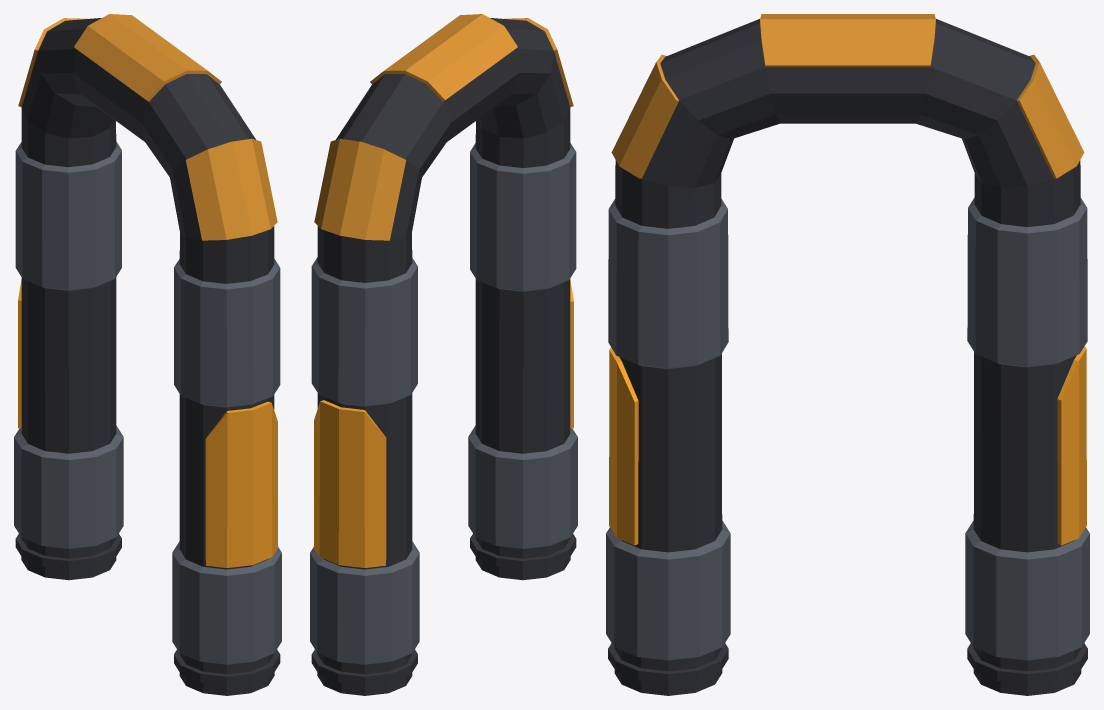
File: SM_Arc_eletric_pipe.glb
The picture shows the model from 3 angles, left to right: view 1: azimuth 30°, elevation 25°; view 2: azimuth 150°, elevation 25°; view 3: azimuth 270°, elevation 25°; orthographic projection. The views are drawn at different scales.
Visible parts, largest first — view 1: SM_Arc_eletric_pipe; view 2: SM_Arc_eletric_pipe; view 3: SM_Arc_eletric_pipe.
Boxes of the visible parts, bbox=[...] form: SM_Arc_eletric_pipe: bbox=[14, 14, 281, 695]; SM_Arc_eletric_pipe: bbox=[310, 14, 577, 695]; SM_Arc_eletric_pipe: bbox=[606, 14, 1089, 695].
Bounding box in the file's own units: 0.3471 × 2.01 × 1.35.
1 material, 1 textured.
